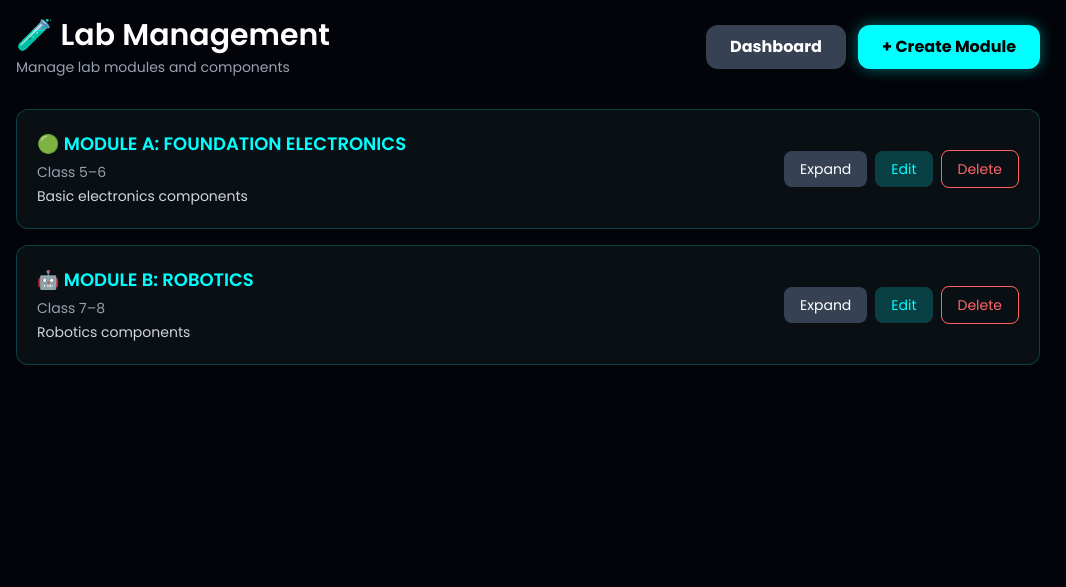
Test: AdminLabManager › should expand and collapse module to show components
Expected: the heading "🟢 MODULE A: FOUNDATION ELECTRONICS" is shown, [37,131,406,156]
Expected: the text "Breadboard" is not shown
// Click expand button
What coordinates should you click on to do the following:
click the 1st button "Expand"
I would click on:
 (826, 169)
Its box is [784,151,867,187].
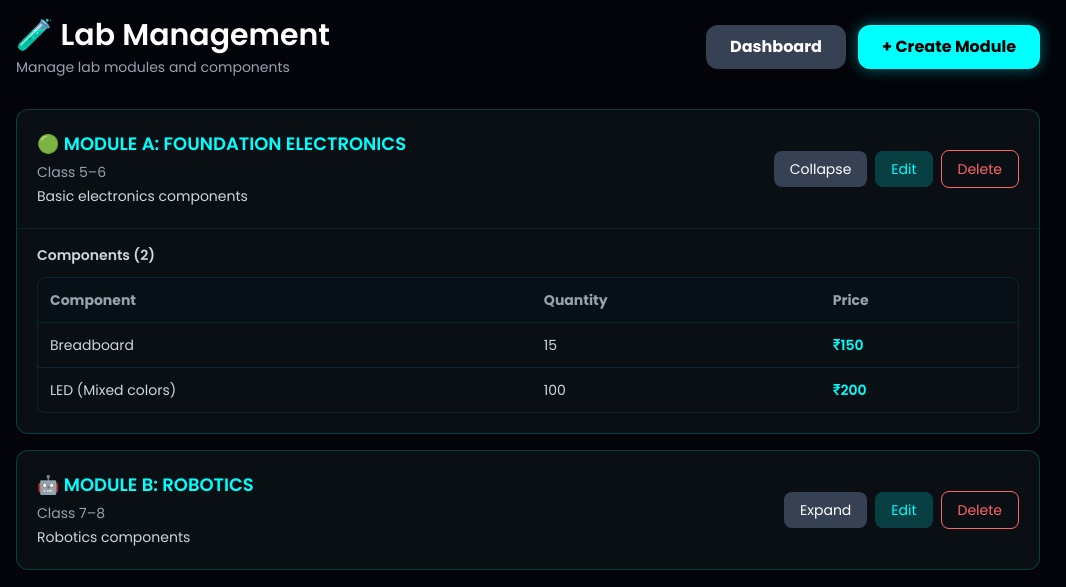
Expected: the text "Breadboard" is shown, [38,322,532,368]
Expected: the text "LED (Mixed colors)" is shown, [38,368,532,412]
// Click collapse button
What coordinates should you click on to do the following:
click the button "Collapse"
I would click on:
 (821, 169)
Its box is [774,151,867,187].
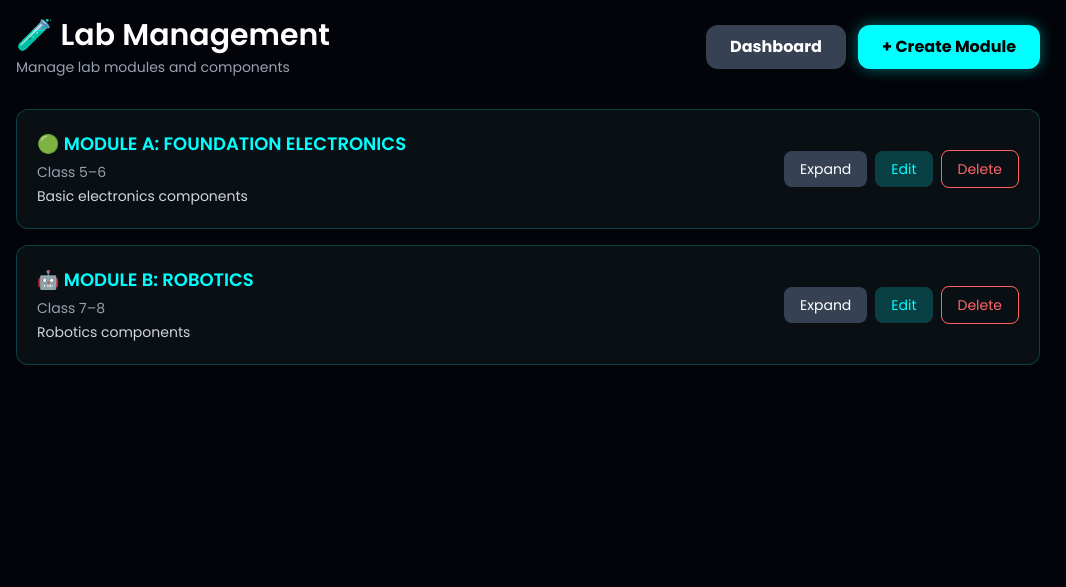
Expected: the text "Breadboard" is gone
